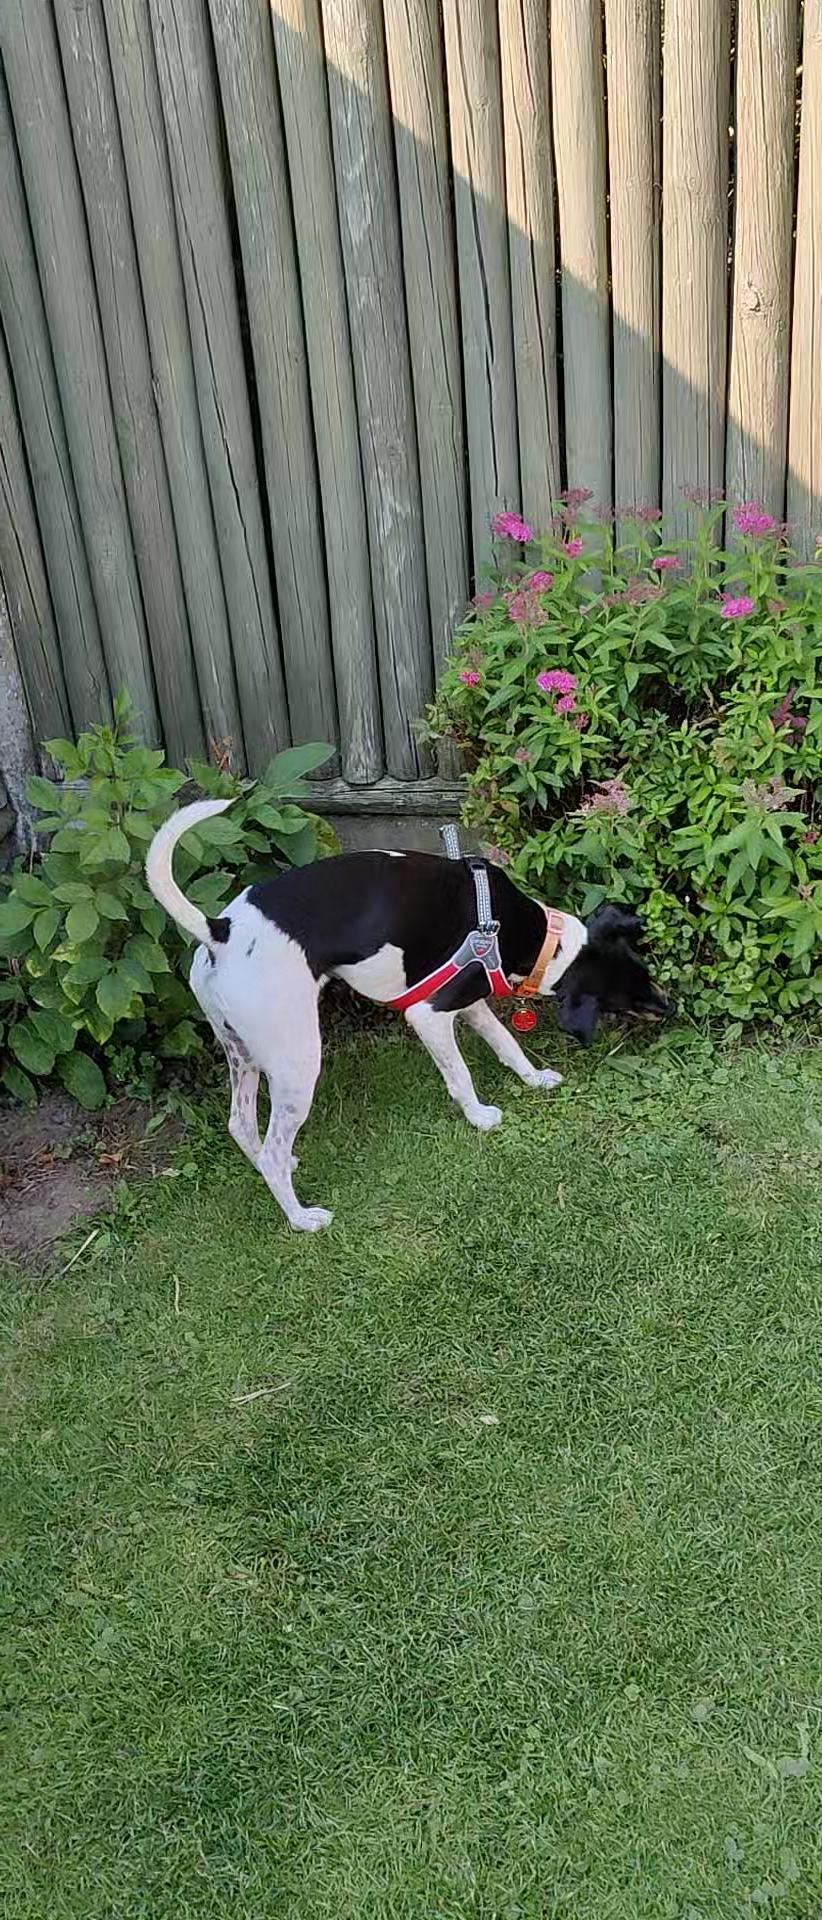Dog: (127, 786, 691, 1238)
